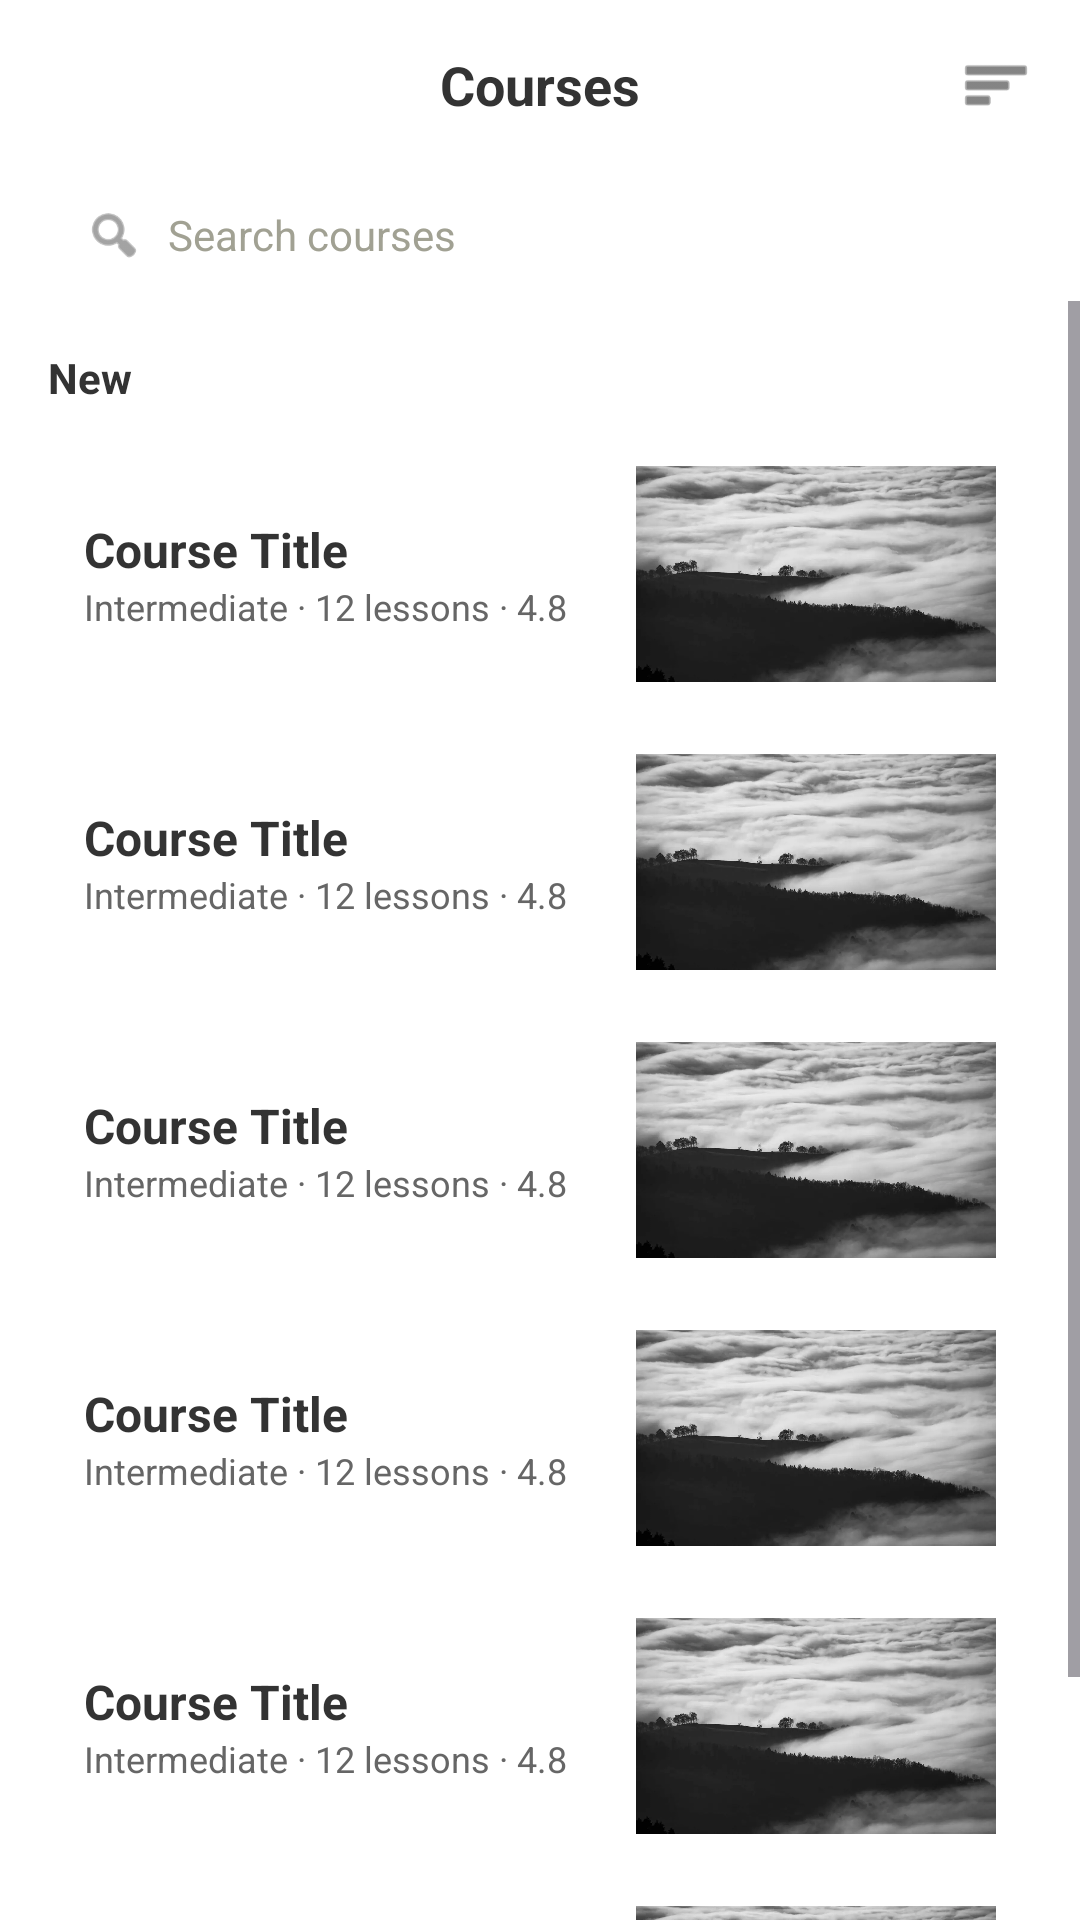

Locate icon controls on the screen. Image size 1080w x 1920h, boxes as (x1, y1, x2, y2).
sort by size: (965, 65, 1027, 106)
